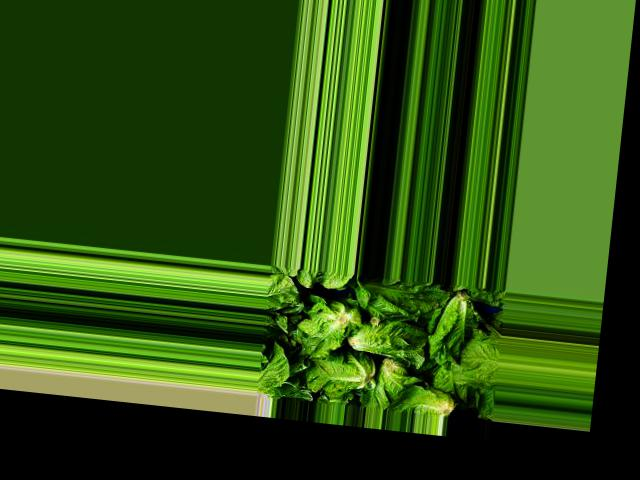lettuce: (277, 221, 430, 400)
